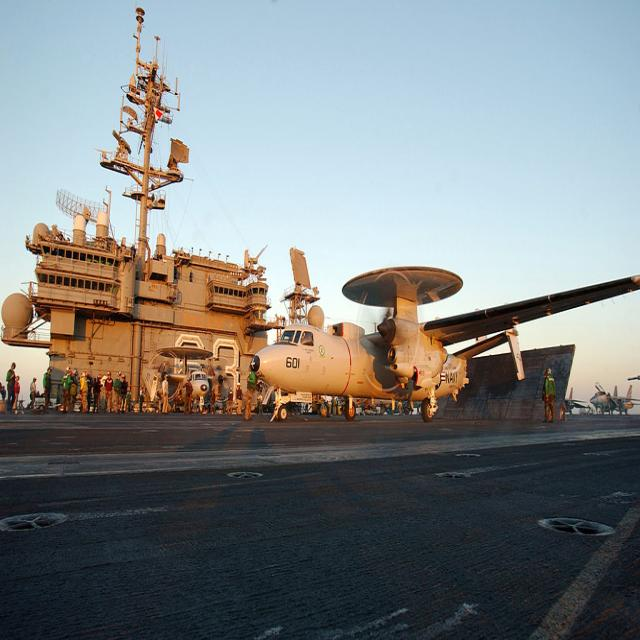MIL_Plane: (198, 266, 589, 422), (89, 295, 184, 360), (589, 381, 640, 415)
